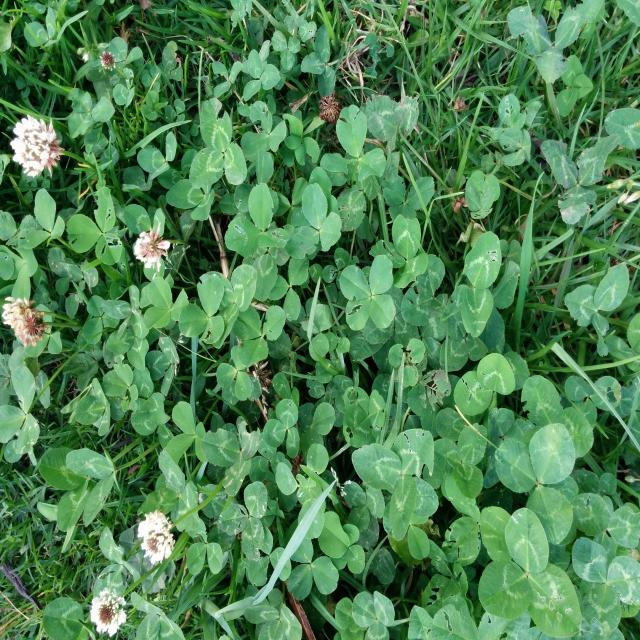Four Leaf Clover: (340, 255, 396, 330)
